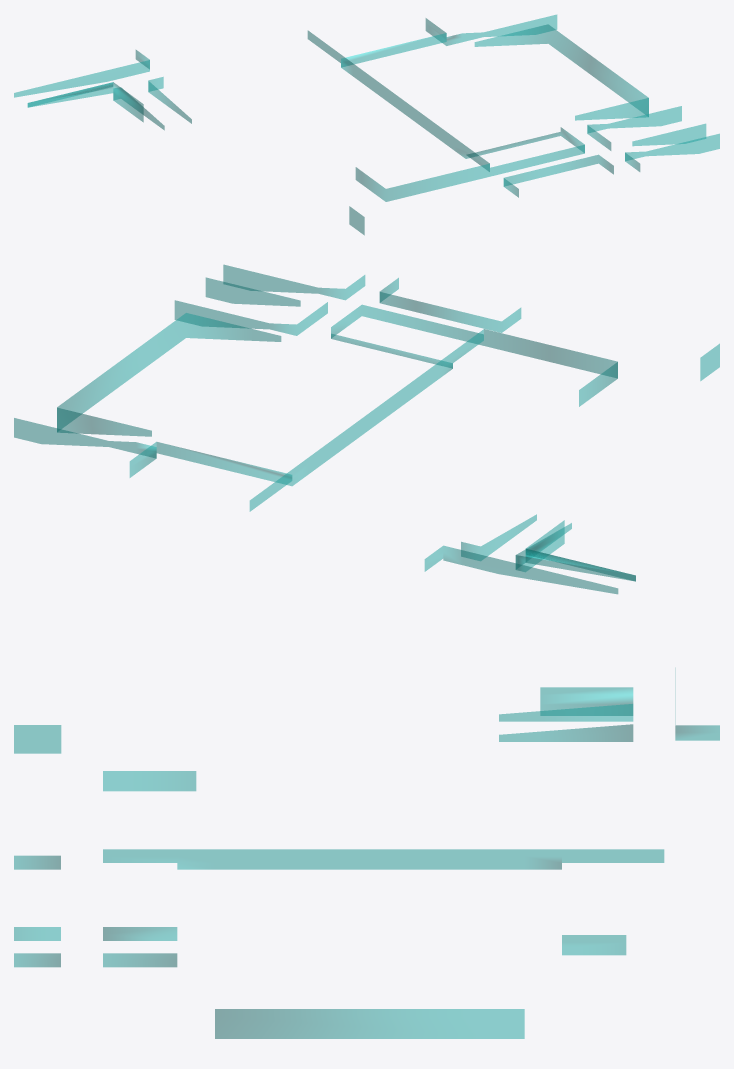
Rendered from OsakaPlatformWalls2.fbx.
3 views of the same model, one above another, from view 1: azimuth 30°, elevation 25°; view 2: azimuth 150°, elevation 25°; view 3: azimuth 270°, elevation 25° (orthographic). The views are drawn at different scales.
Parts seen in each view (by area): view 1: PlatformWalls; view 2: PlatformWalls; view 3: PlatformWalls.
Part boxes in pixels (<box>): PlatformWalls: <box>14,14,719,235</box>; PlatformWalls: <box>14,264,719,594</box>; PlatformWalls: <box>14,668,719,1038</box>.
Size of the model in its own units: 10014 by 630 by 7850.
